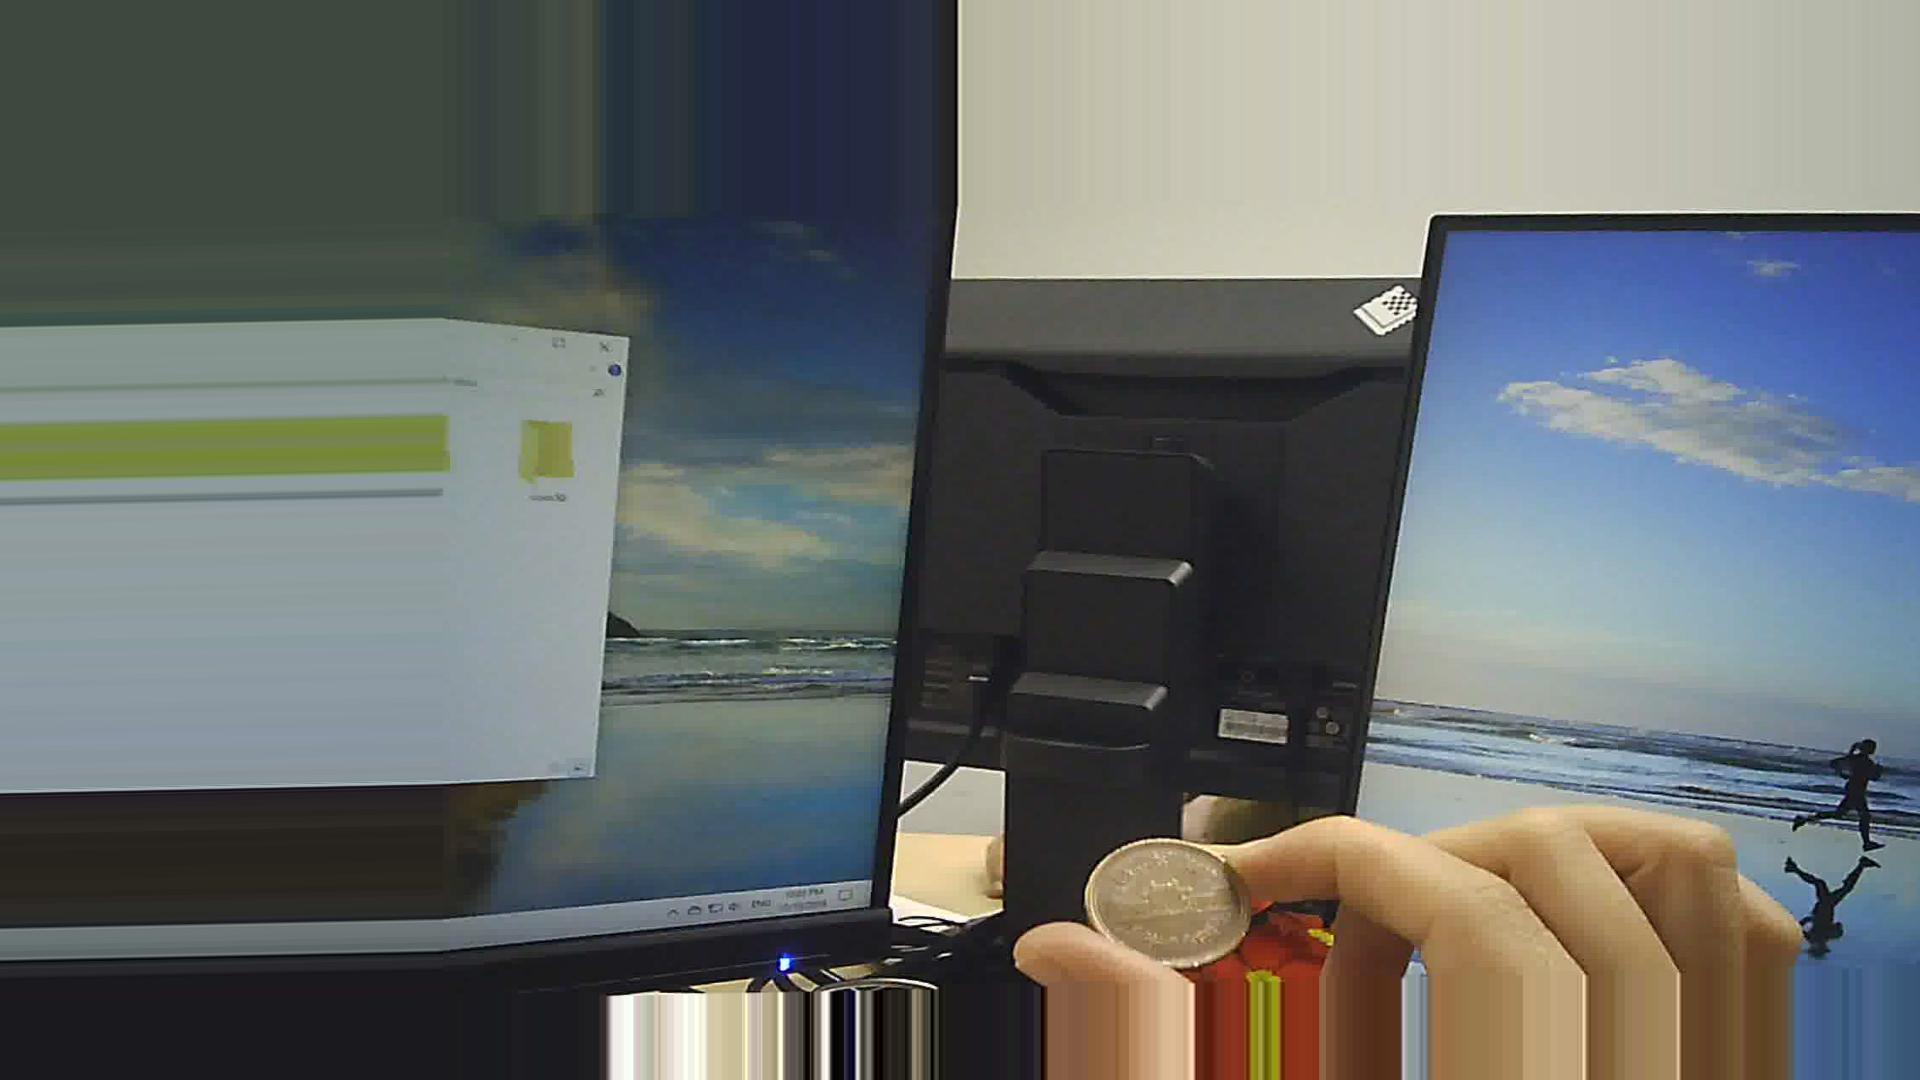10 Yen: (1081, 843, 1250, 976)
